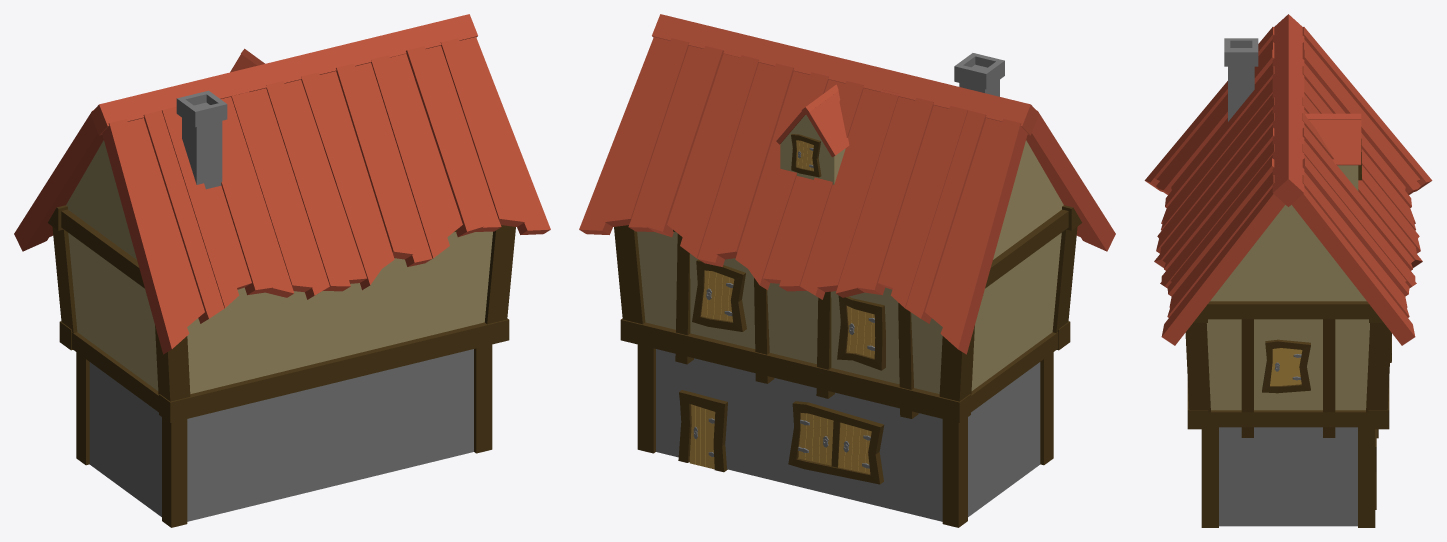
The model's file is Medival House Applied.fbx.
3 views of the same model, side by side, from view 1: azimuth 30°, elevation 25°; view 2: azimuth 150°, elevation 25°; view 3: azimuth 270°, elevation 25° (orthographic). The views are drawn at different scales.
Parts seen in each view (by area): view 1: Cube.007, Cube, Cube.001, Cube.005, Cube.008, Cube.004, Cube.002, Cube.013, Cube.011; view 2: Cube.007, Cube, Cube.001, Cube.008, Cube.005, Cube.002, Cube.037, Cube.046, Cube.047, Cube.012, Cube.013, Cube.033 (+11 smaller); view 3: Cube.007, Cube, Cube.001, Cube.002, Cube.008, Cube.013, Cube.011, Cube.045, Cube.004, Cube.010, Cube.014, Cube.020 (+2 smaller).
Boxes of the visible parts, left/top/right/bottom form: Cube.007: left=14, top=37, right=550, bottom=354; Cube: left=76, top=344, right=492, bottom=527; Cube.001: left=52, top=225, right=515, bottom=401; Cube.005: left=59, top=318, right=509, bottom=422; Cube.008: left=90, top=14, right=477, bottom=135; Cube.004: left=176, top=90, right=227, bottom=189; Cube.002: left=66, top=140, right=136, bottom=259; Cube.013: left=61, top=209, right=144, bottom=288; Cube.011: left=71, top=332, right=158, bottom=412; Cube.007: left=579, top=37, right=1115, bottom=354; Cube: left=637, top=344, right=1053, bottom=527; Cube.001: left=614, top=225, right=1077, bottom=401; Cube.008: left=652, top=14, right=1039, bottom=135; Cube.005: left=620, top=318, right=1070, bottom=422; Cube.002: left=993, top=140, right=1063, bottom=259; Cube.037: left=788, top=401, right=884, bottom=484; Cube.046: left=675, top=233, right=774, bottom=383; Cube.047: left=816, top=291, right=918, bottom=418; Cube.012: left=678, top=390, right=727, bottom=472; Cube.013: left=985, top=209, right=1068, bottom=288; Cube.033: left=837, top=295, right=885, bottom=370; Cube.007: left=1144, top=27, right=1432, bottom=345; Cube: left=1201, top=427, right=1375, bottom=527; Cube.001: left=1185, top=319, right=1391, bottom=412; Cube.002: left=1210, top=205, right=1366, bottom=301; Cube.008: left=1272, top=14, right=1304, bottom=206; Cube.013: left=1208, top=301, right=1368, bottom=319; Cube.011: left=1208, top=410, right=1368, bottom=427; Cube.045: left=1241, top=319, right=1335, bottom=437; Cube.004: left=1224, top=38, right=1258, bottom=121; Cube.010: left=1308, top=119, right=1361, bottom=165; Cube.014: left=1262, top=339, right=1310, bottom=393; Cube.020: left=1270, top=348, right=1302, bottom=385.
Size of the model in its own units: 905 by 890 by 637.
